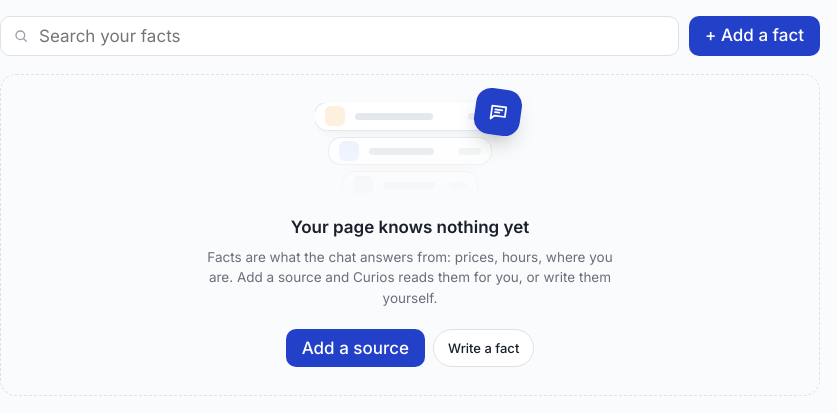
it: FactList › has an empty state that offers a source or a fact of your own
The width and height of the screenshot is (837, 413).
Expected: the heading "Your page knows nothing yet" is shown, [291,215,529,240]
Click the button "Write a fact" at (484, 348), box [433,329,534,367]
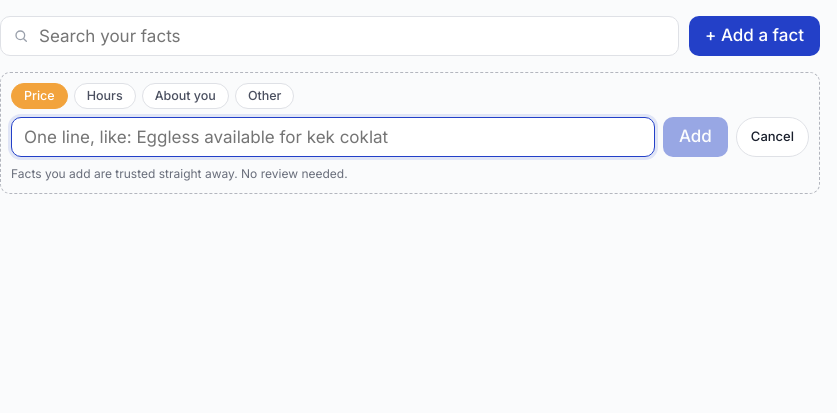
Result: the field named "New fact" is shown at [11,117,655,157]
